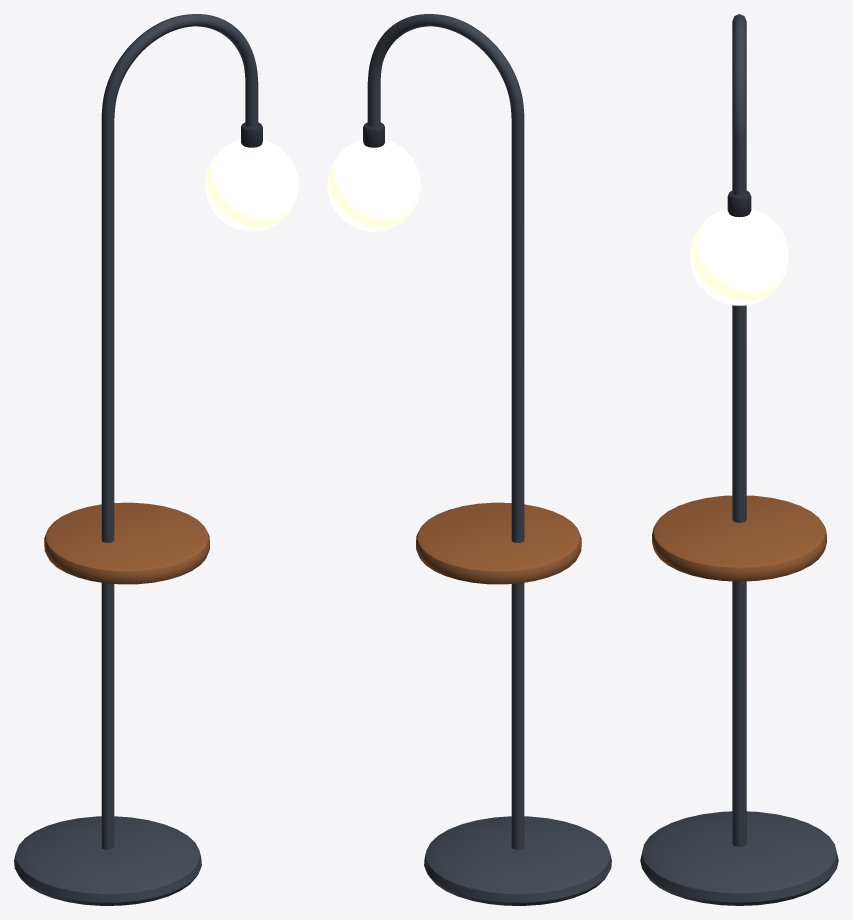
File: luminaria_chao_globo_mesinha.glb
3 renders of one model, left to right at view 1: azimuth 30°, elevation 25°; view 2: azimuth 150°, elevation 25°; view 3: azimuth 270°, elevation 25°, orthographic. The views are drawn at different scales.
Parts seen in each view (by area): view 1: luminaria_chao_globo_mesinha; view 2: luminaria_chao_globo_mesinha; view 3: luminaria_chao_globo_mesinha.
Part boxes in pixels (x1,y1,x2,y2): luminaria_chao_globo_mesinha: (14, 14, 298, 905); luminaria_chao_globo_mesinha: (327, 14, 611, 905); luminaria_chao_globo_mesinha: (640, 14, 838, 905).
Size of the model in its own units: 0.555 by 1.66 by 0.34.
Materials: 2 (1 with a texture image).
